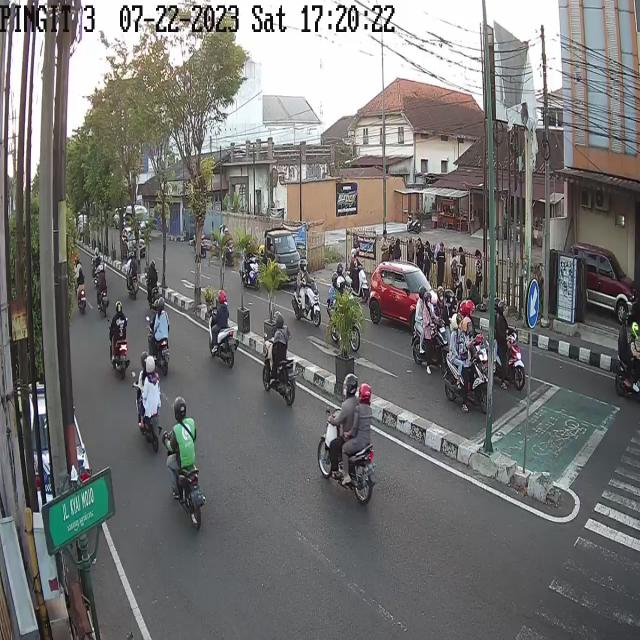car: (367, 261, 438, 330), (574, 244, 636, 320), (118, 223, 148, 263)
motorcycle: (316, 371, 376, 504), (167, 395, 206, 529), (446, 310, 488, 405), (487, 292, 527, 390), (263, 315, 297, 406), (413, 286, 448, 368), (327, 278, 362, 350), (136, 348, 162, 439), (290, 260, 320, 332), (210, 292, 238, 369), (149, 296, 173, 368), (111, 302, 132, 382), (239, 233, 258, 292), (75, 269, 92, 317), (144, 261, 160, 303), (97, 261, 108, 317), (125, 249, 138, 296), (219, 225, 233, 267)
truck: (244, 229, 302, 284)
